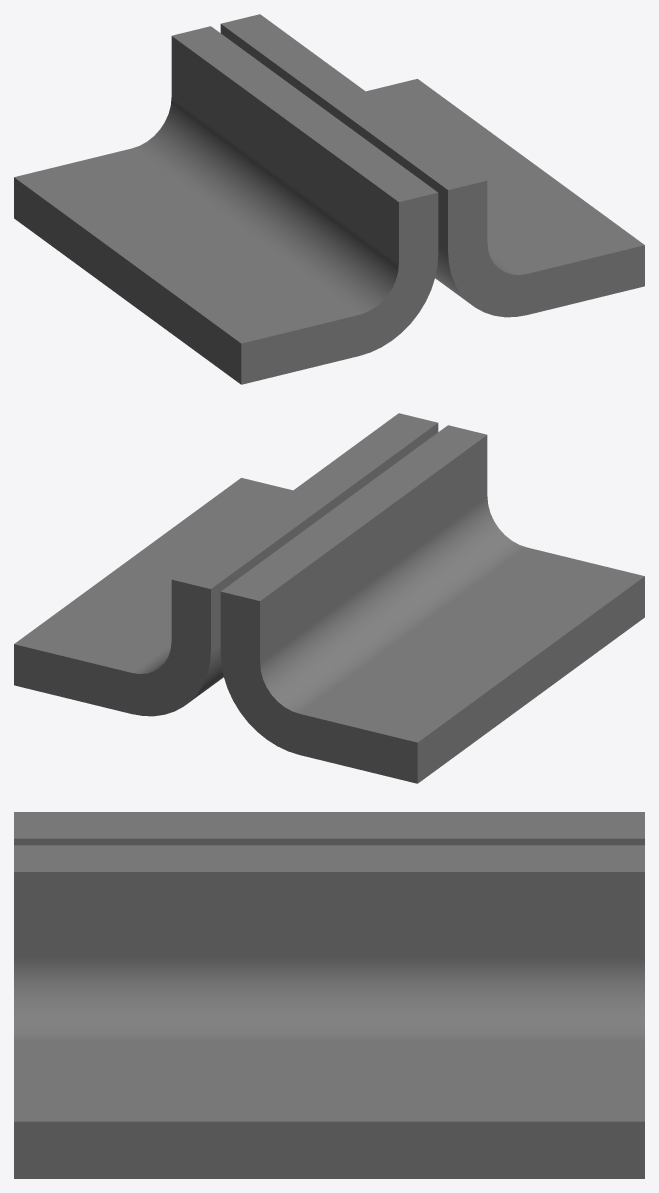
The model's file is С1_Кромки.glb.
3 renders of one model, top to bottom at view 1: azimuth 30°, elevation 25°; view 2: azimuth 150°, elevation 25°; view 3: azimuth 270°, elevation 25°, orthographic. The views are drawn at different scales.
Parts seen in each view (by area): view 1: node_id3; view 2: node_id3; view 3: node_id3.
Part boxes in pixels (x1,y1,x2,y2): node_id3: (14,14,644,384); node_id3: (14,413,644,783); node_id3: (14,812,644,1178).
Bounding box in the file's own units: 0.512 × 0.1748 × 0.4995.
Materials: 1 (1 with a texture image).
